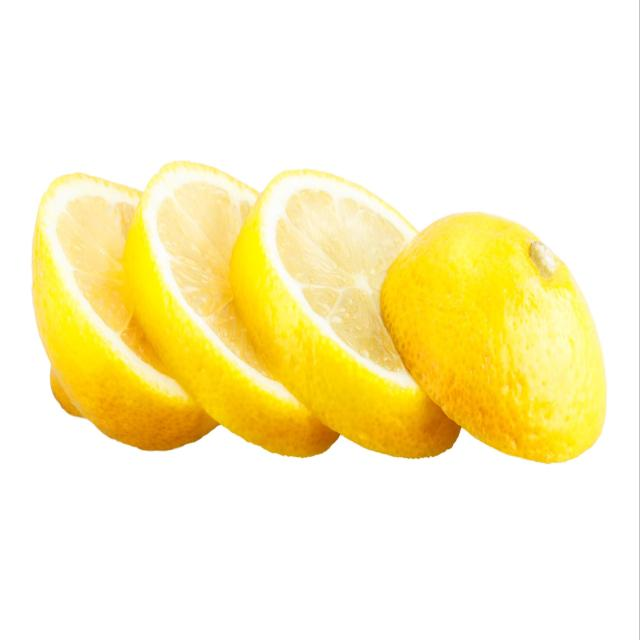lemon: (24, 152, 616, 473)
